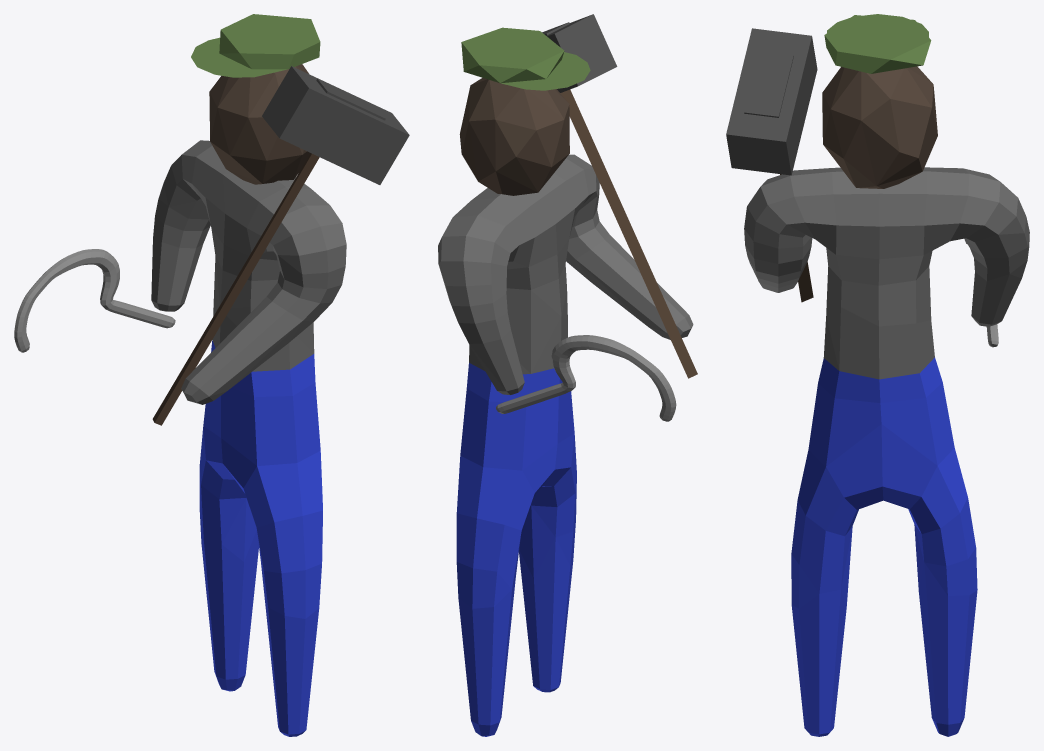
File: worker.fbx
The picture shows the model from 3 angles, left to right: view 1: azimuth 30°, elevation 25°; view 2: azimuth 150°, elevation 25°; view 3: azimuth 270°, elevation 25°; orthographic projection. The views are drawn at different scales.
Visible parts, largest first — view 1: Cube, Cube.001, Sphere, Circle, Cube.002, Cylinder; view 2: Cube, Sphere, Circle, Cube.002, Cylinder, Cube.001; view 3: Cube, Sphere, Cube.001, Circle.
Part boxes in pixels (<box>): Cube: <box>151,140,346,736</box>; Cube.001: <box>262,66,409,184</box>; Sphere: <box>209,64,310,184</box>; Circle: <box>191,14,320,77</box>; Cube.002: <box>14,249,175,352</box>; Cylinder: <box>152,153,319,425</box>; Cube: <box>438,154,693,736</box>; Sphere: <box>459,78,569,195</box>; Circle: <box>461,27,590,90</box>; Cube.002: <box>496,335,676,421</box>; Cylinder: <box>560,89,697,378</box>; Cube.001: <box>542,14,617,92</box>; Cube: <box>744,167,1029,736</box>; Sphere: <box>822,66,937,188</box>; Cube.001: <box>726,28,817,175</box>; Circle: <box>824,14,931,73</box>.
Size of the model in its own units: 185 by 417 by 163.
